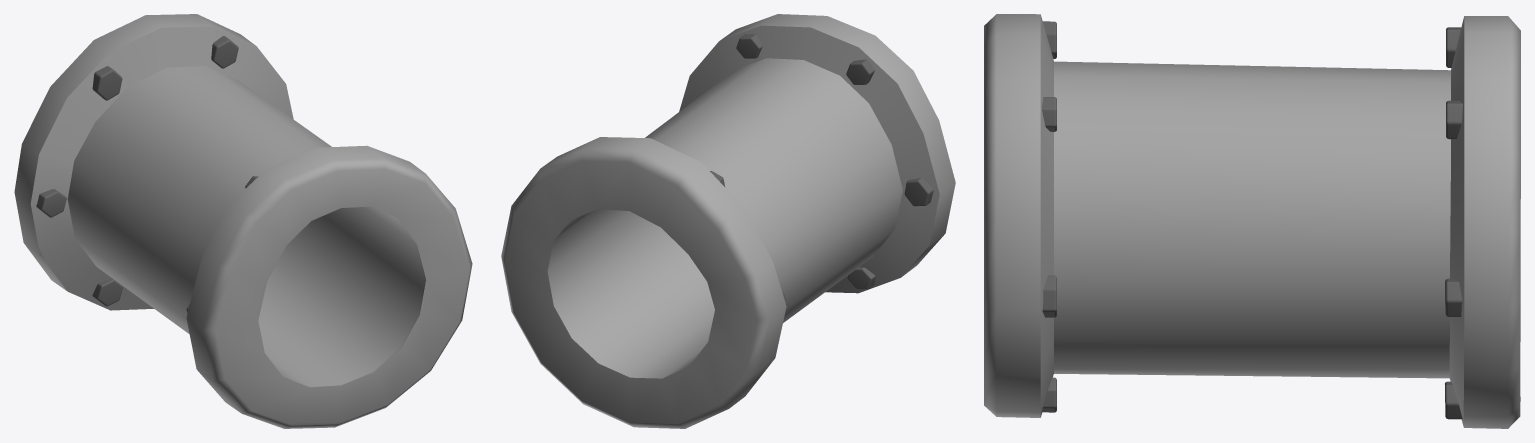
The model's file is SM_tuyau_moyen_low (1).fbx.
3 renders of one model, left to right at view 1: azimuth 30°, elevation 25°; view 2: azimuth 150°, elevation 25°; view 3: azimuth 270°, elevation 25°, orthographic. The views are drawn at different scales.
Parts seen in each view (by area): view 1: SM_tuyau_moyen_low; view 2: SM_tuyau_moyen_low; view 3: SM_tuyau_moyen_low.
Part boxes in pixels (bbox=[...]): SM_tuyau_moyen_low: bbox=[14, 14, 472, 428]; SM_tuyau_moyen_low: bbox=[501, 14, 955, 428]; SM_tuyau_moyen_low: bbox=[984, 14, 1520, 428].
Bounding box in the file's own units: 0.2644 × 0.2641 × 0.3417.
Materials: 1 (1 with a texture image).
